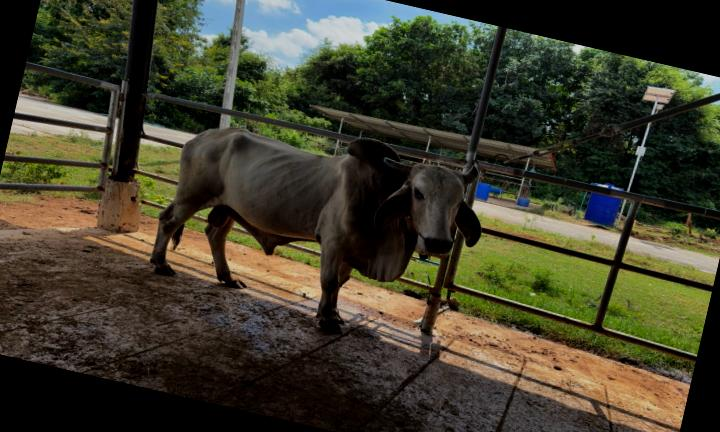Brahman: (151, 127, 481, 332)
